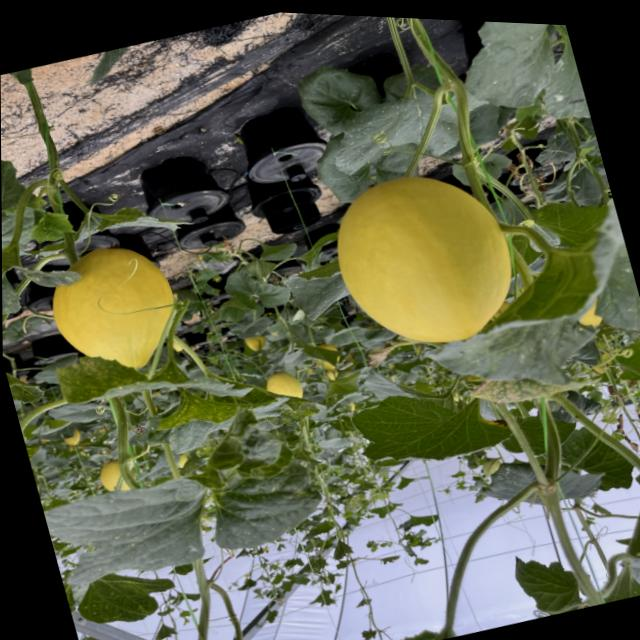CMV: (31, 397, 335, 606)
downy mildew: (143, 364, 279, 448), (72, 557, 188, 638)
healthy: (348, 373, 519, 493), (505, 541, 585, 624), (598, 462, 640, 575)
powdery mildew: (427, 19, 591, 151), (2, 226, 80, 325)
